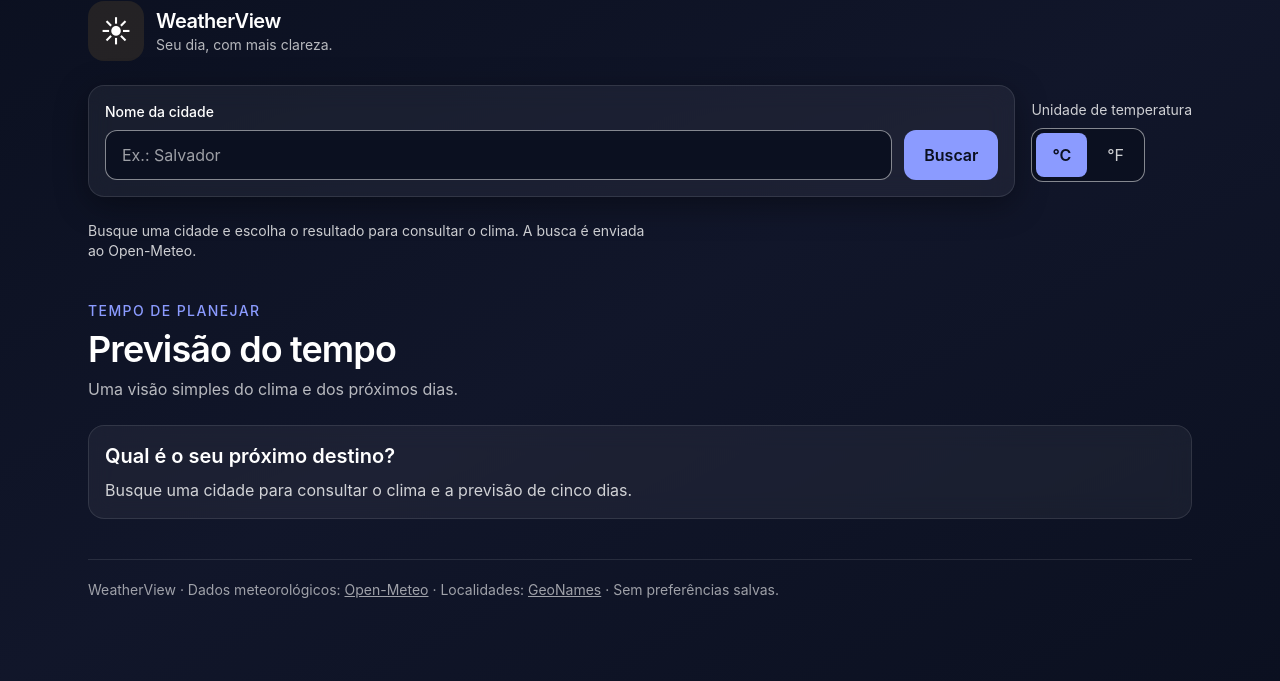
Test case: App integrado › mostra resposta parcial e aviso de fuso em vez de fabricar dados
This screenshot has width=1280, height=681.
Type "Salvador" into the field at point(499, 155), box [105,130,892,180]
Then press Enter
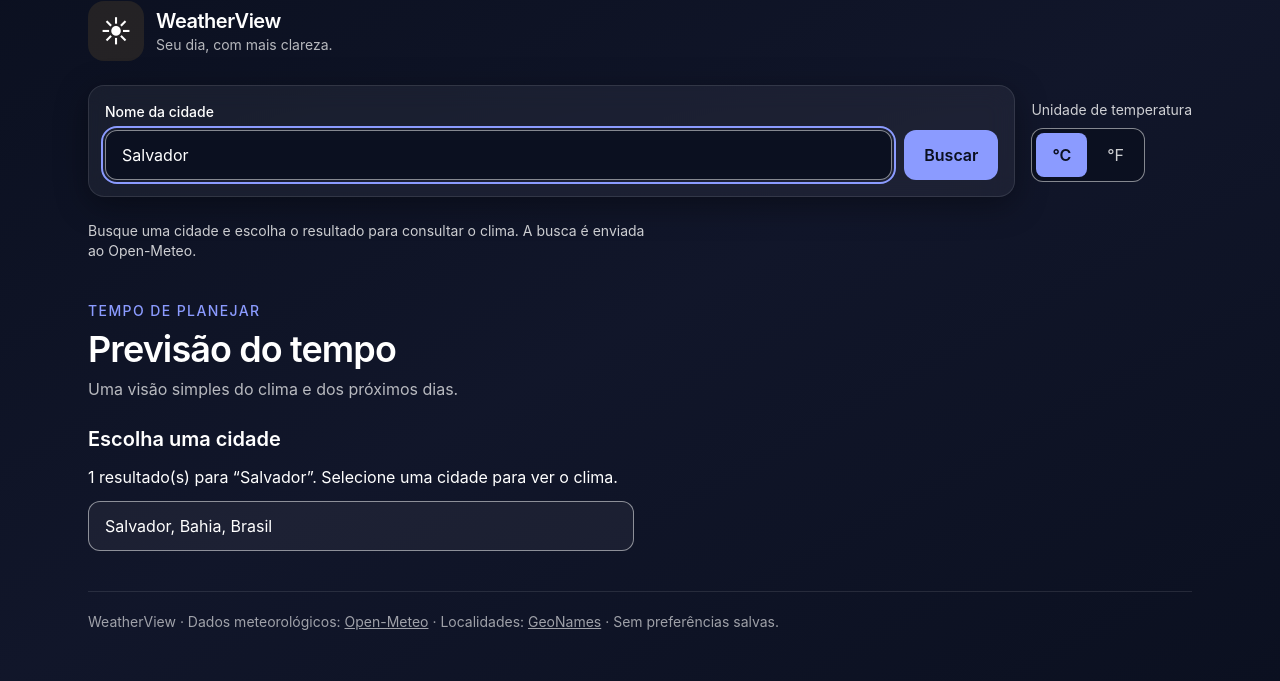
Click the button "Salvador, Bahia, Brasil" at point(189, 526), box [88,501,634,551]
(page scrolled)
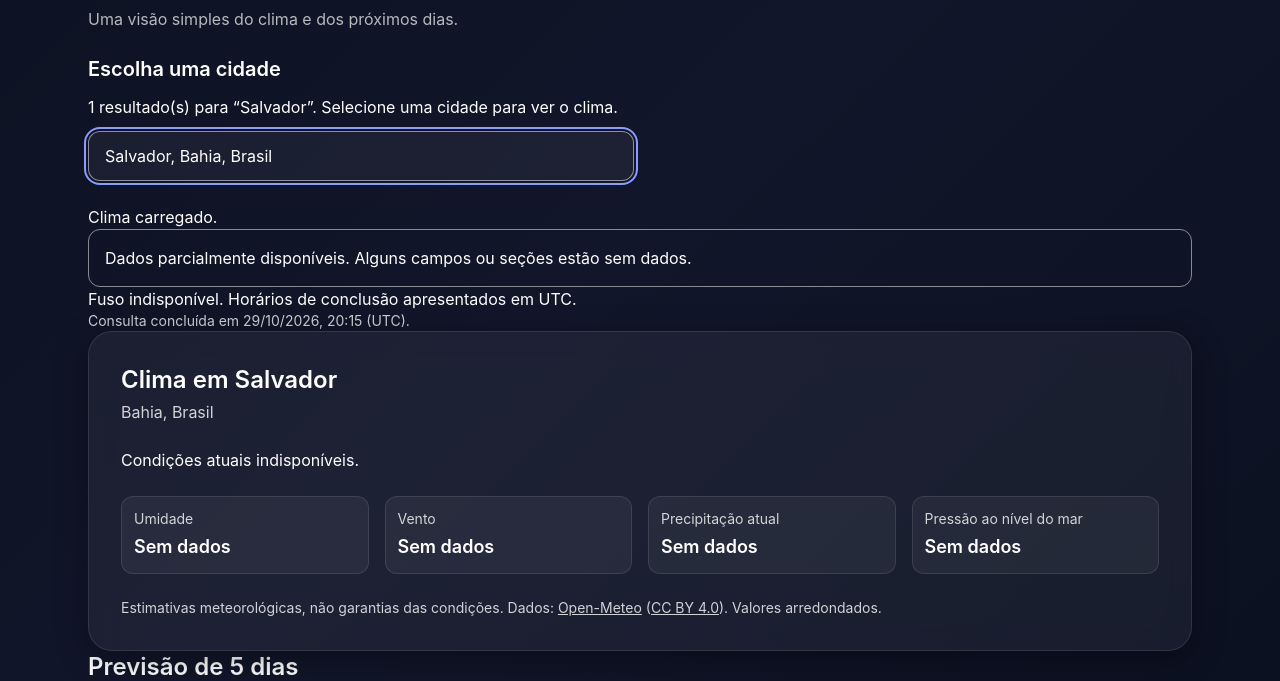
Expected: the text "Dados parcialmente disponíveis" is shown, [105,248,692,268]
Expected: the text "Condições atuais indisponíveis." is shown, [121,450,359,470]
Expected: the text "Fuso indisponível" is shown, [88,289,577,309]
